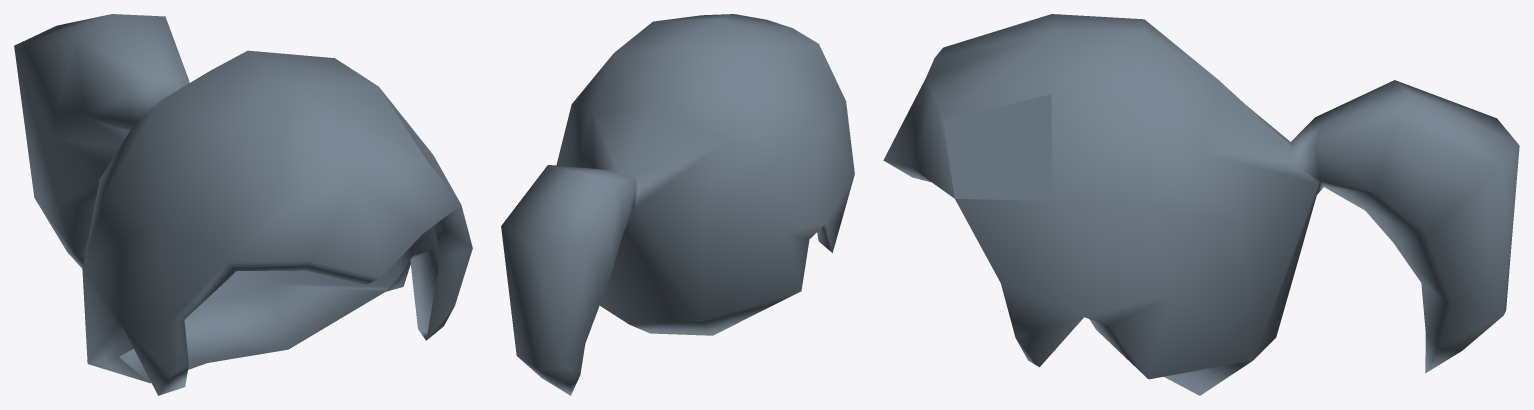
File: HairPonytailGrey.fbx
3 renders of one model, left to right at view 1: azimuth 30°, elevation 25°; view 2: azimuth 150°, elevation 25°; view 3: azimuth 270°, elevation 25°, orthographic. The views are drawn at different scales.
Visible parts, largest first — view 1: HairPonytailGrey; view 2: HairPonytailGrey; view 3: HairPonytailGrey.
Boxes of the visible parts, x1=… form: HairPonytailGrey: x1=14, y1=14, x2=472, y2=395; HairPonytailGrey: x1=501, y1=14, x2=854, y2=395; HairPonytailGrey: x1=883, y1=14, x2=1519, y2=395.
Bounding box in the file's own units: 50 × 52.63 × 88.87.
